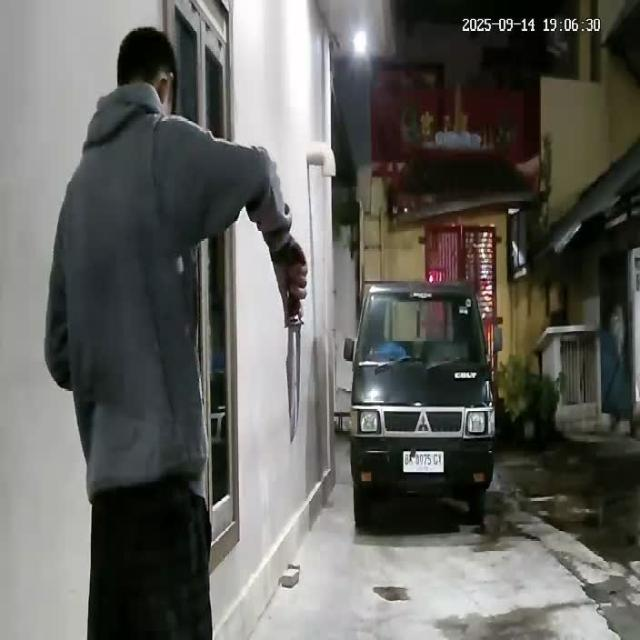senjata_tajam: (283, 304, 309, 446)
